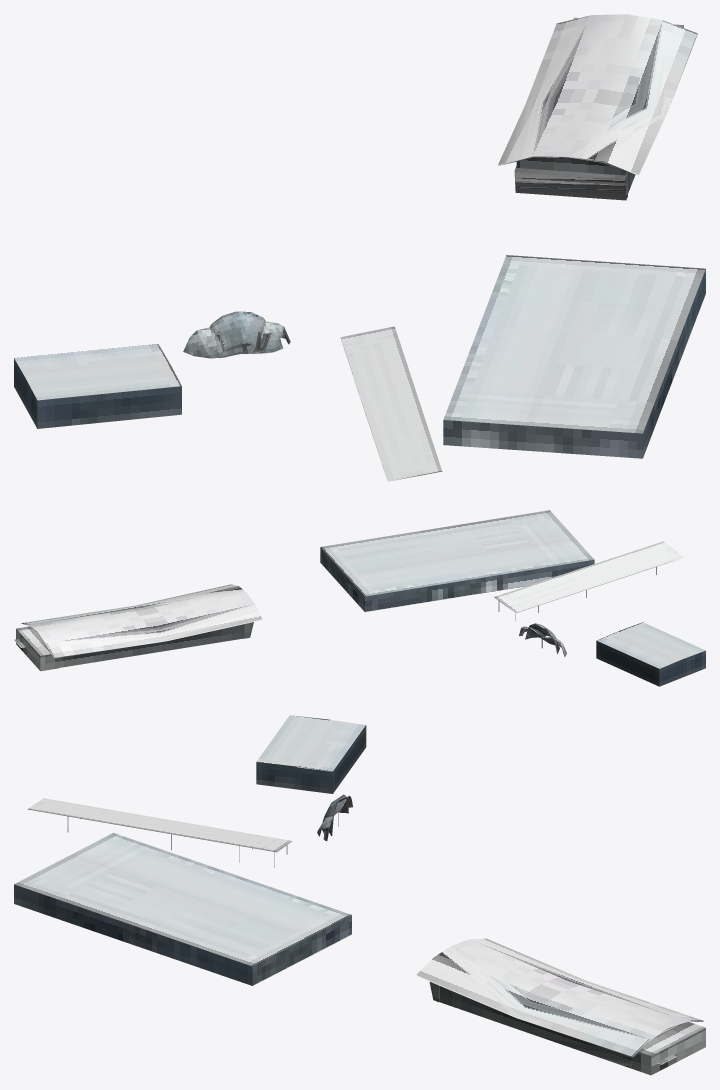
3 views of the same model, one above another, from view 1: azimuth 30°, elevation 25°; view 2: azimuth 150°, elevation 25°; view 3: azimuth 270°, elevation 25° (orthographic). The views are drawn at different scales.
Visible parts, largest first — view 1: Buildings_建物パビリオン; view 2: Buildings_建物パビリオン; view 3: Buildings_建物パビリオン.
Boxes of the visible parts, bbox=[...] form: Buildings_建物パビリオン: bbox=[14, 14, 705, 481]; Buildings_建物パビリオン: bbox=[14, 510, 705, 686]; Buildings_建物パビリオン: bbox=[14, 715, 705, 1075].
Size of the model in its own units: 189 by 9.77 by 165.
6 materials, 5 textured.
